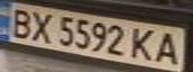2: (106, 21, 130, 57)
5: (51, 14, 78, 47), (69, 17, 93, 51)
9: (87, 20, 109, 54)
A: (151, 29, 187, 65)
B: (3, 6, 36, 39)
K: (127, 25, 160, 63)
X: (24, 9, 57, 44)
